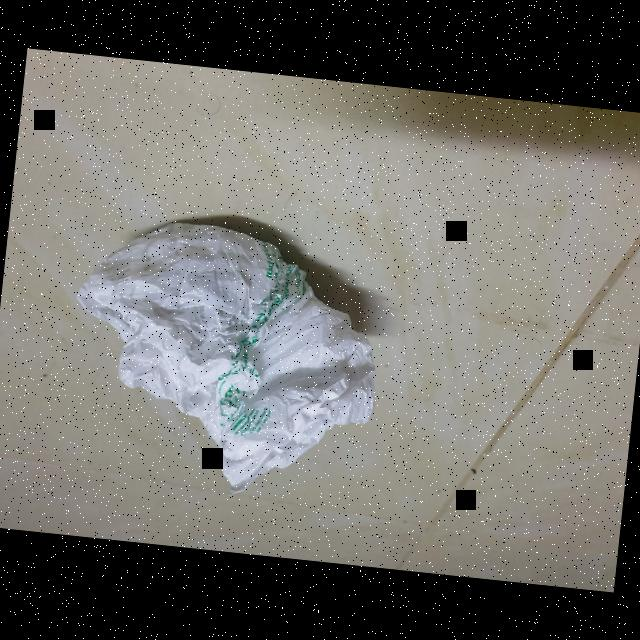plastic_bag: (42, 201, 395, 514)
